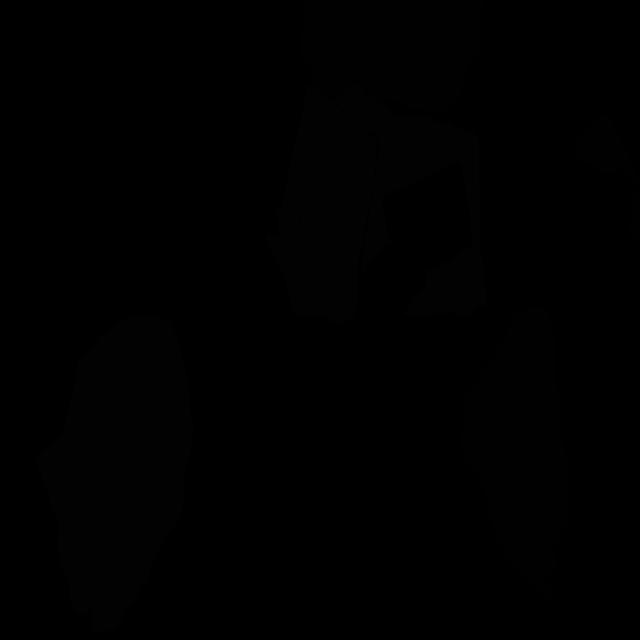cardboard: (36, 315, 194, 634), (329, 83, 487, 316), (280, 84, 378, 257), (265, 203, 359, 327)
rigid_plastic: (460, 305, 572, 601), (300, 0, 484, 113), (573, 114, 639, 243)
